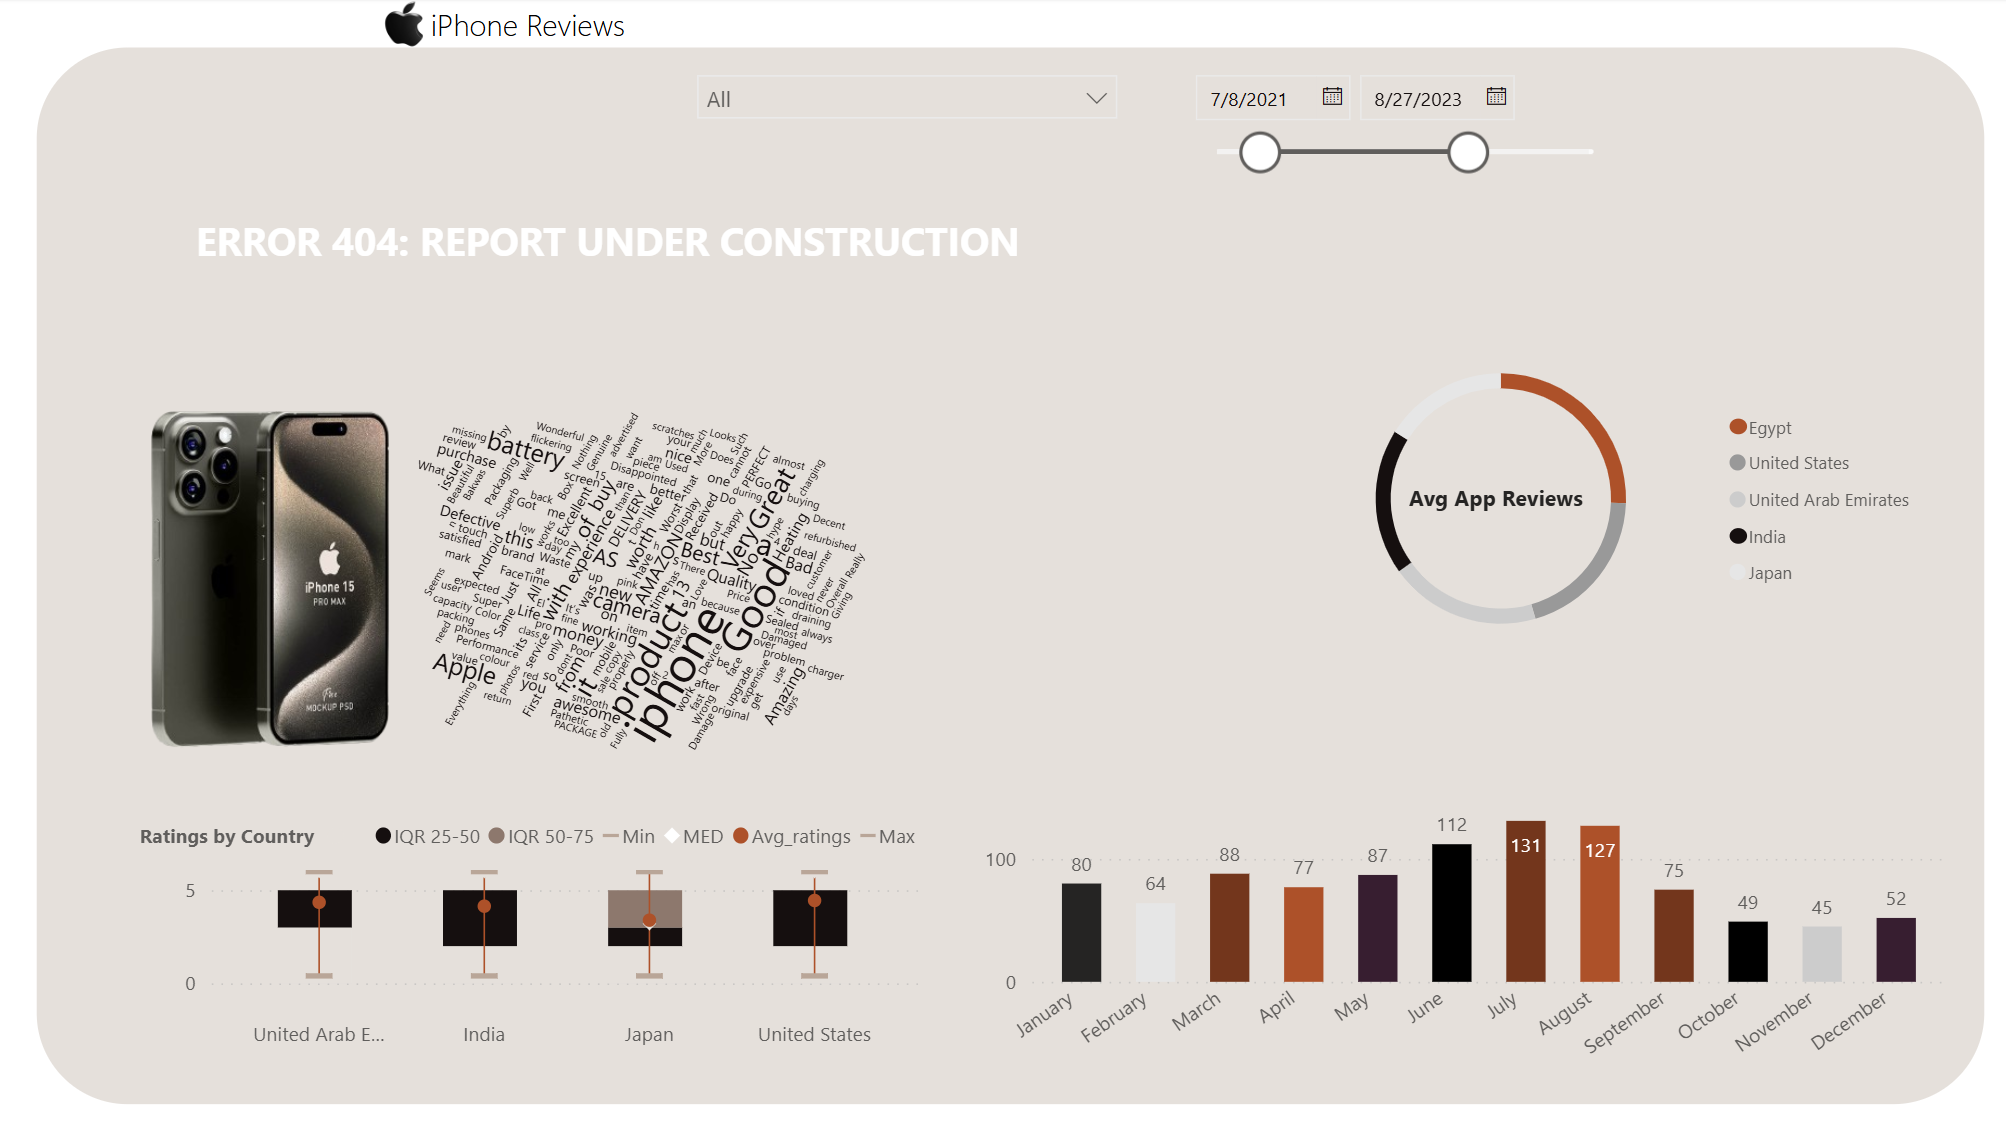

This screenshot's page, from the dashboard's own definition file:
{"tool":"powerbi","page":{"name":"Overview","canvas":[1280,720],"ordinal":0},"visuals":[{"type":"WordCloud1447959067750","fields":{"Category":["iphone.reviewTitle"],"Values":["Min(iphone.reviewDescription)"]},"box":[255.5,245.1,334.9,255],"z":0},{"type":"lineStackedColumnComboChart","fields":{"Category":["iphone.country"],"Y2":["iphone.Min_ratings","iphone.Median_ratings","iphone.Avg_ratings","iphone.Max_Ratings"],"Y":["iphone.Percentile25_ratings","iphone.rating quantity IQR 25-50","iphone.review quantity IQR 50-75"]},"box":[99.7,500.5,490.4,158],"z":1000},{"type":"slicer","fields":{"Values":["iphone.date"]},"box":[741.9,37.6,281,91.6],"z":2000},{"type":"slicer","fields":{"Values":["iphone.country"]},"box":[435.2,37.7,281,91.6],"z":3000},{"type":"donutChart","fields":{"Category":["iphone.country"],"Y":["iphone.Avg_ratings"]},"box":[803.1,213.8,404.5,194.7],"z":4000},{"type":"textbox","box":[882.5,296.1,140.2,44.6],"z":5000},{"type":"textbox","box":[129.2,129.2,547.6,70.7],"z":6000},{"type":"columnChart","title":"Reviews by Month","fields":{"Category":["iphone.date.Variation.Date Hierarchy.Month"],"Y":["CountNonNull(iphone.productAsin)"]},"box":[618.3,482.7,608.4,193.5],"z":7000}]}

Visuals, with their boxes in screenshot pixels (x1, y1, x2, y2), scaled from the page's 1280x720 canvas onto the 2006x1122 screenshot:
WordCloud1447959067750 - iphone.reviewTitle x Min(iphone.reviewDescription): {"left": 400, "top": 382, "right": 925, "bottom": 779}
lineStackedColumnComboChart - iphone.country x iphone.Min_ratings: {"left": 156, "top": 780, "right": 925, "bottom": 1026}
slicer - iphone.date: {"left": 1163, "top": 59, "right": 1603, "bottom": 201}
slicer - iphone.country: {"left": 682, "top": 59, "right": 1122, "bottom": 201}
donutChart - iphone.country x iphone.Avg_ratings: {"left": 1259, "top": 333, "right": 1893, "bottom": 637}
textbox: {"left": 1383, "top": 461, "right": 1603, "bottom": 531}
textbox: {"left": 202, "top": 201, "right": 1061, "bottom": 312}
"Reviews by Month" columnChart: {"left": 969, "top": 752, "right": 1922, "bottom": 1054}
